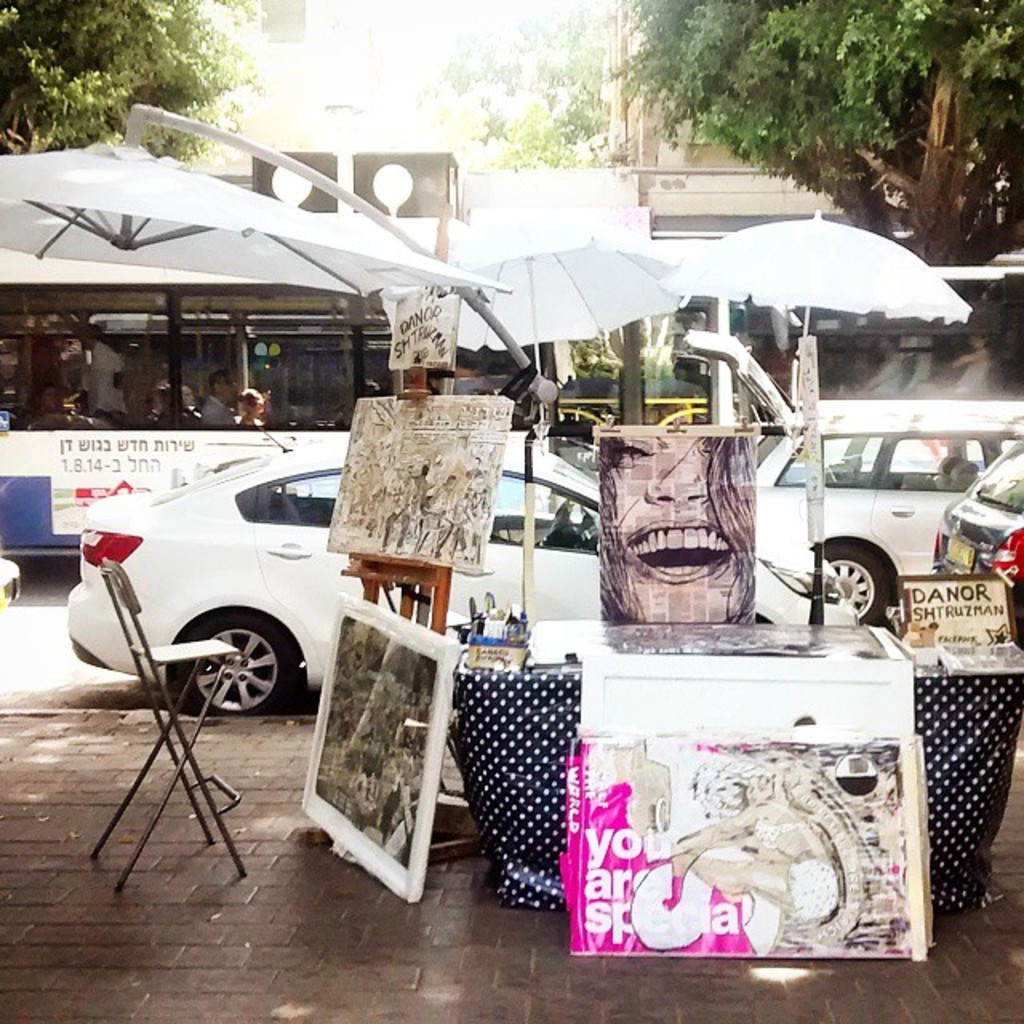Car: (64, 446, 611, 724), (747, 400, 1022, 624), (934, 448, 1022, 638)
